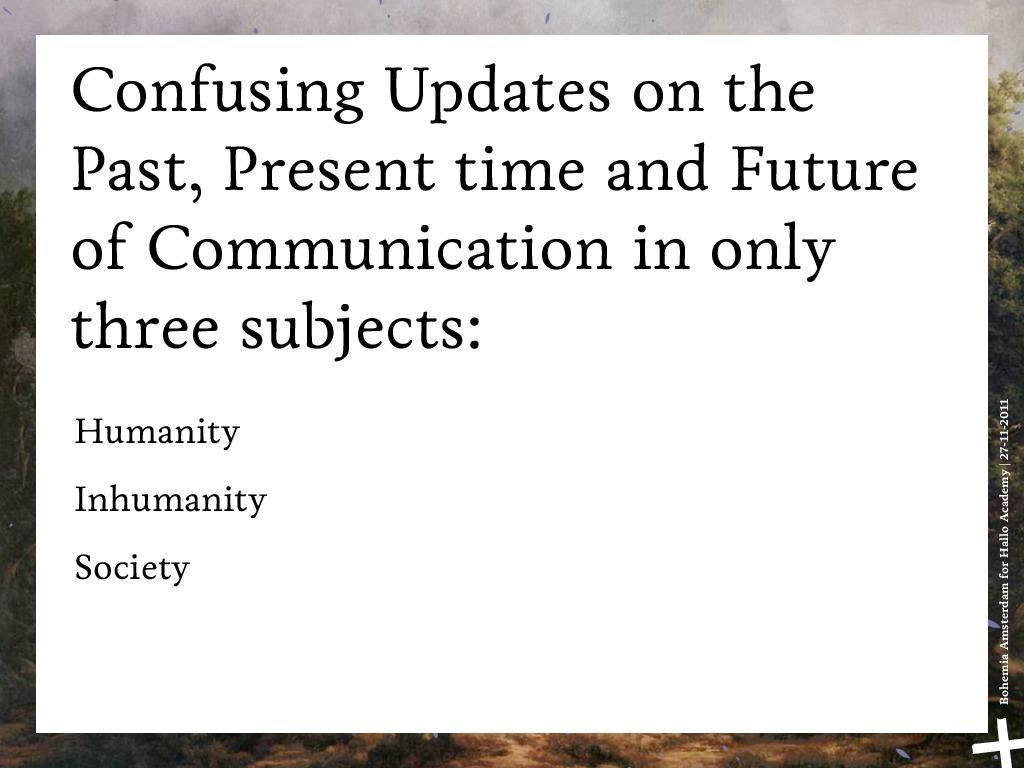subtitle: (64, 414, 298, 600)
title: (68, 44, 936, 397)
